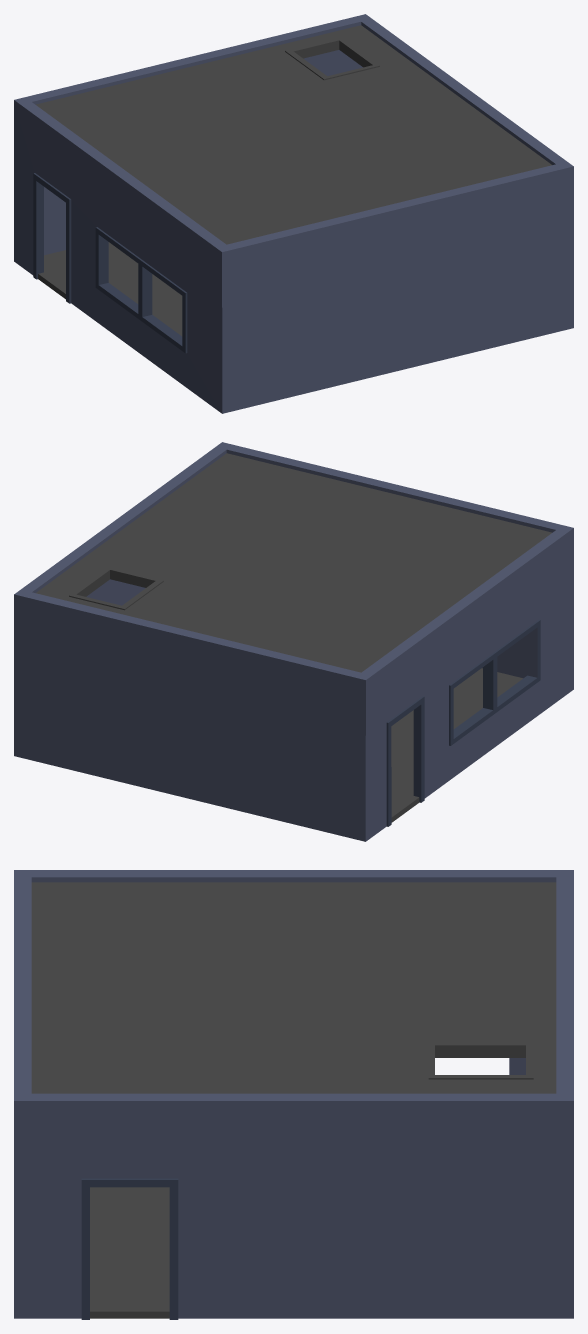
File: SmallBuilding1-2.fbx
3 views of the same model, one above another, from view 1: azimuth 30°, elevation 25°; view 2: azimuth 150°, elevation 25°; view 3: azimuth 270°, elevation 25° (orthographic). The views are drawn at different scales.
Visible parts, largest first — view 1: SmallBuilding1.001_LOD0; view 2: SmallBuilding1.001_LOD0; view 3: SmallBuilding1.001_LOD0.
Boxes of the visible parts, x1,y1,x2,y2 form: SmallBuilding1.001_LOD0: [14, 14, 573, 413]; SmallBuilding1.001_LOD0: [14, 442, 573, 841]; SmallBuilding1.001_LOD0: [14, 870, 573, 1319].
Size of what is drawn, in the model's own units: 1729 by 752 by 1754.
Materials: 1 (1 with a texture image).
